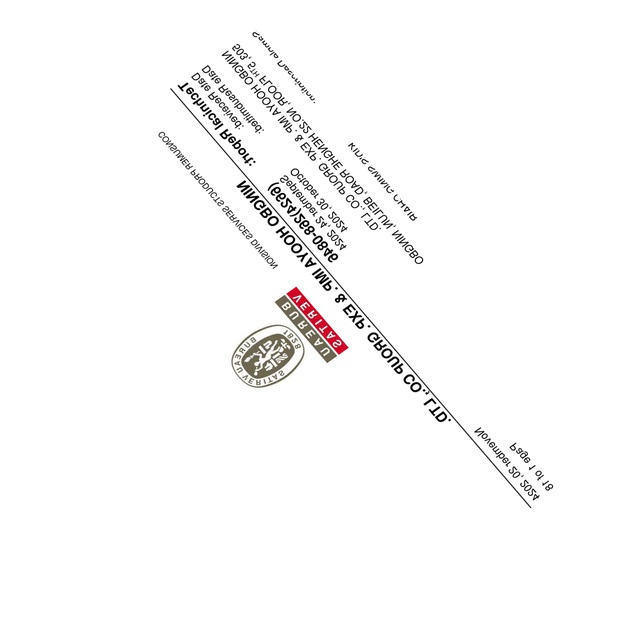bureau_veritas: (229, 287, 348, 387)
